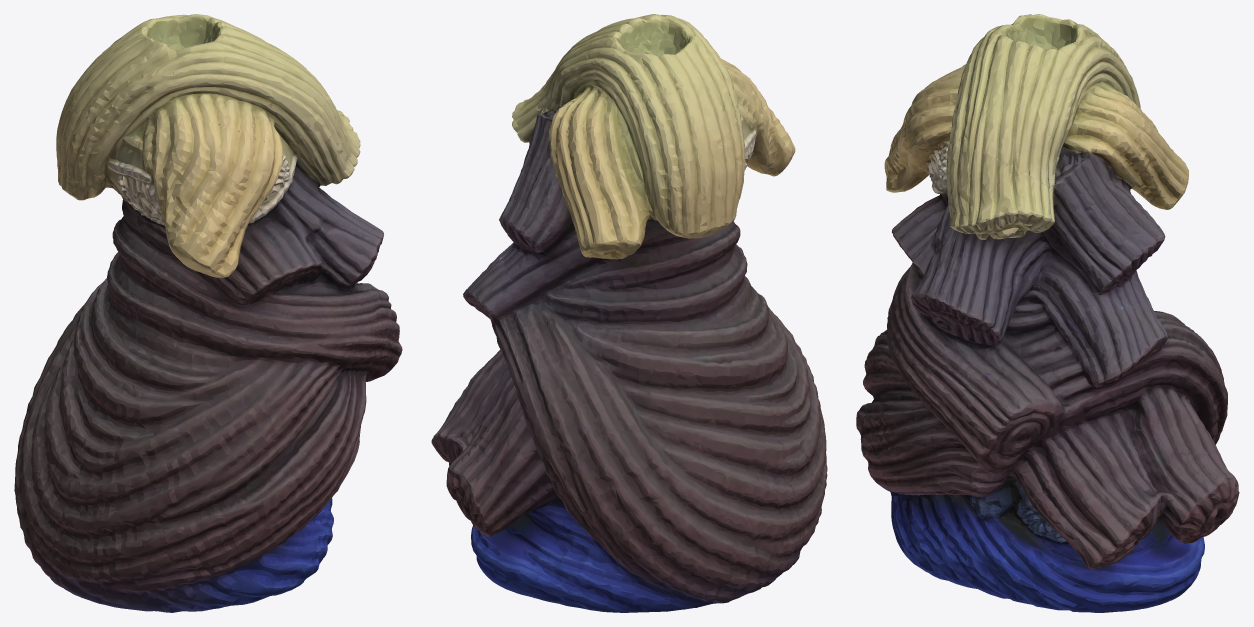
File: 05_6_js_blob_candle3-opt-v20.glb
3 views of the same model, side by side, from view 1: azimuth 30°, elevation 25°; view 2: azimuth 150°, elevation 25°; view 3: azimuth 270°, elevation 25° (orthographic). The views are drawn at different scales.
Visible parts, largest first — view 1: tripo_node_f938f1ff-0c91-4e9d-ac05-28c1e2686026; view 2: tripo_node_f938f1ff-0c91-4e9d-ac05-28c1e2686026; view 3: tripo_node_f938f1ff-0c91-4e9d-ac05-28c1e2686026.
Part boxes in pixels (x1,y1,x2,y2): tripo_node_f938f1ff-0c91-4e9d-ac05-28c1e2686026: (14, 14, 402, 612); tripo_node_f938f1ff-0c91-4e9d-ac05-28c1e2686026: (431, 14, 827, 612); tripo_node_f938f1ff-0c91-4e9d-ac05-28c1e2686026: (856, 14, 1239, 612).
Size of the model in its own units: 0.1313 by 0.2 by 0.1328.
Materials: 1 (1 with a texture image).
